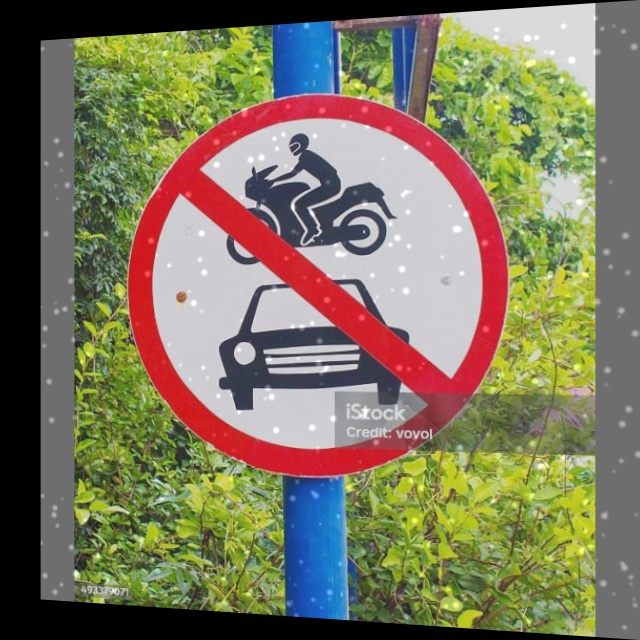All_Motor_Vehicles_Prohibited: (132, 91, 507, 481)
